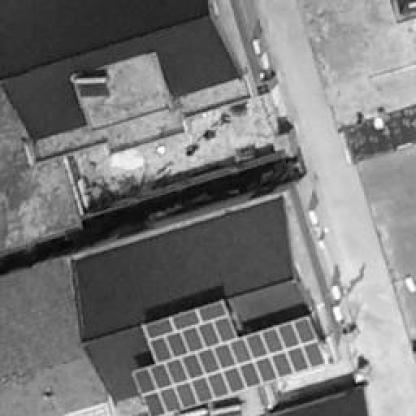solar-pv-panel: (134, 300, 325, 416)
